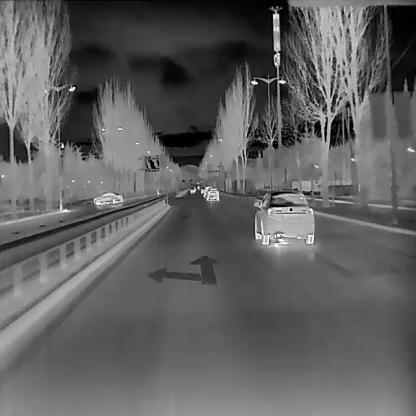car: (252, 188, 314, 245), (91, 189, 122, 205), (204, 185, 219, 201), (202, 184, 211, 198), (200, 184, 204, 194), (190, 185, 194, 192), (196, 184, 199, 189), (196, 180, 199, 183)
